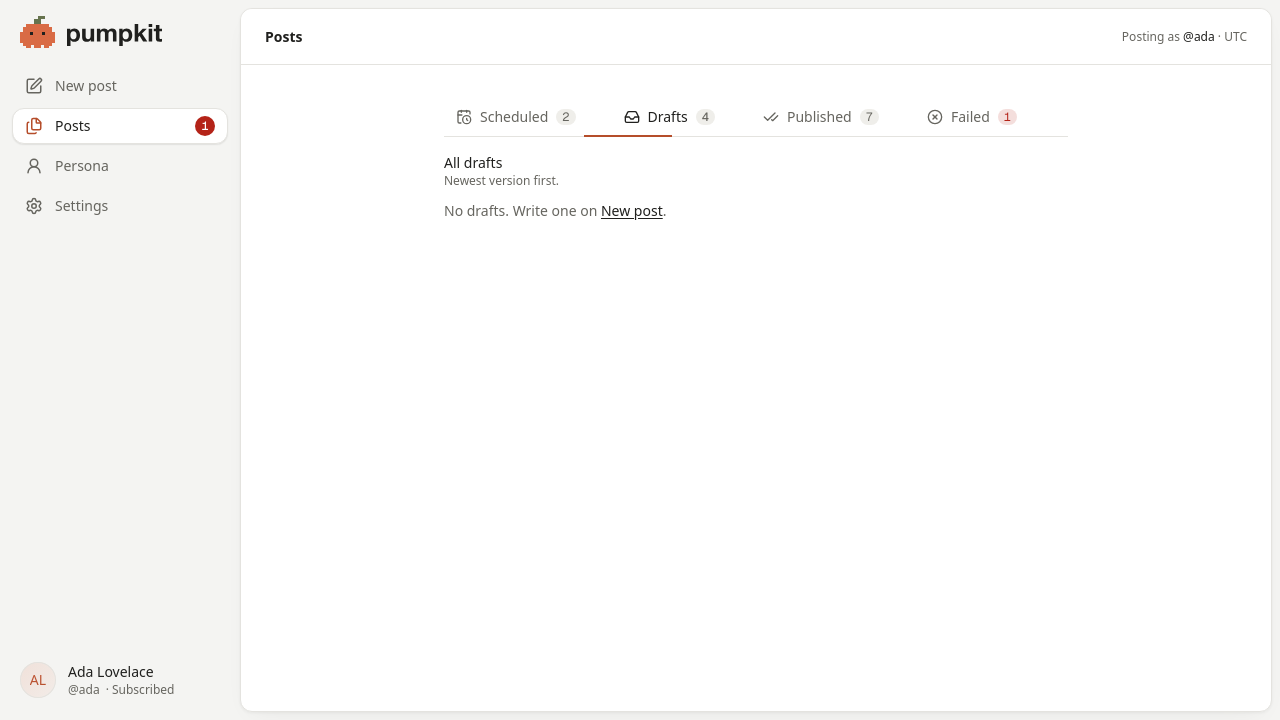
Posts page › has a tab for each status with its count, each at its own address
Check: the link "Published 7" is shown, box [763,107,879,126]
Check: the text "Newest version first." is shown, box [444,172,559,189]
Click the link "Failed 1" at (972, 116), box [927,107,1017,126]
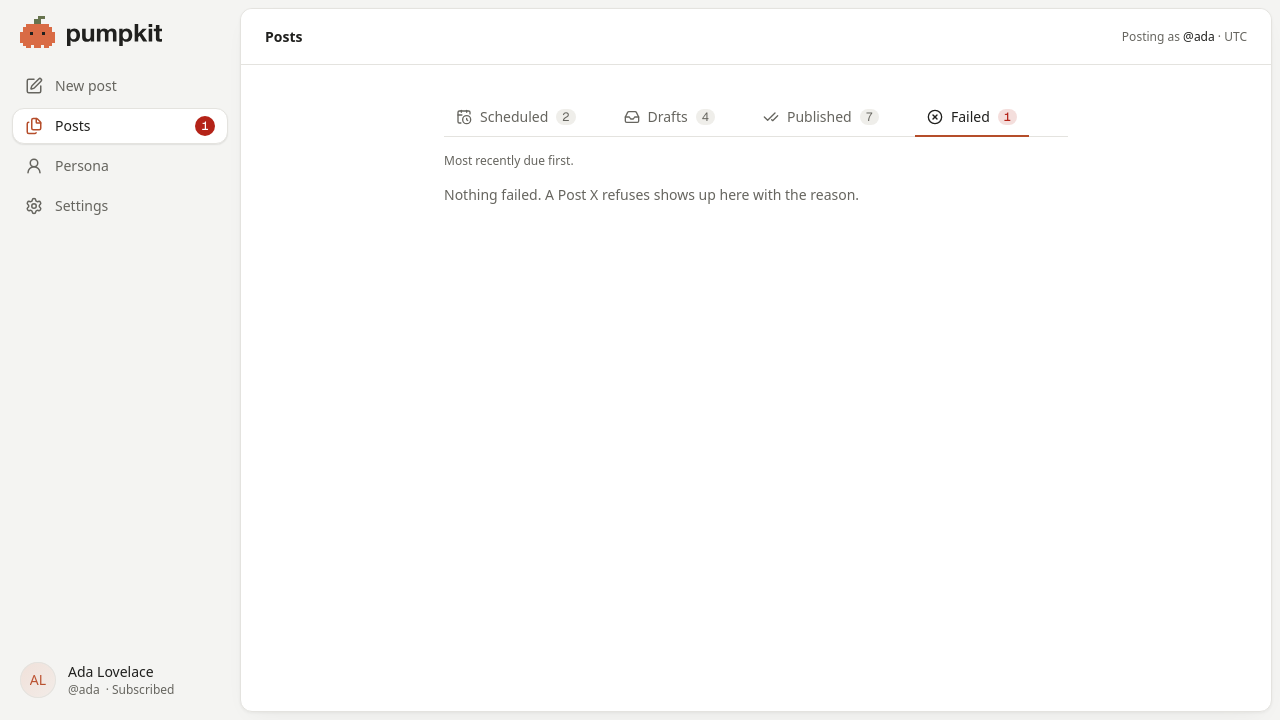
Check: the text "Most recently due first." is shown, box [444,152,574,169]
